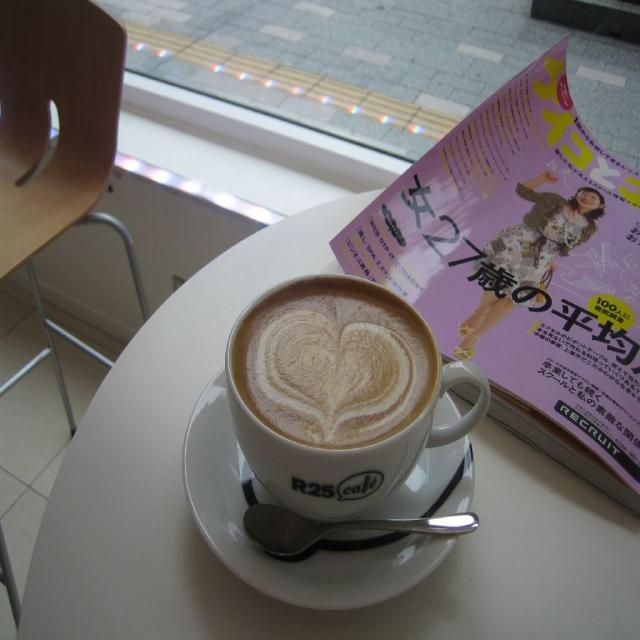Coffee: (226, 277, 479, 538)
